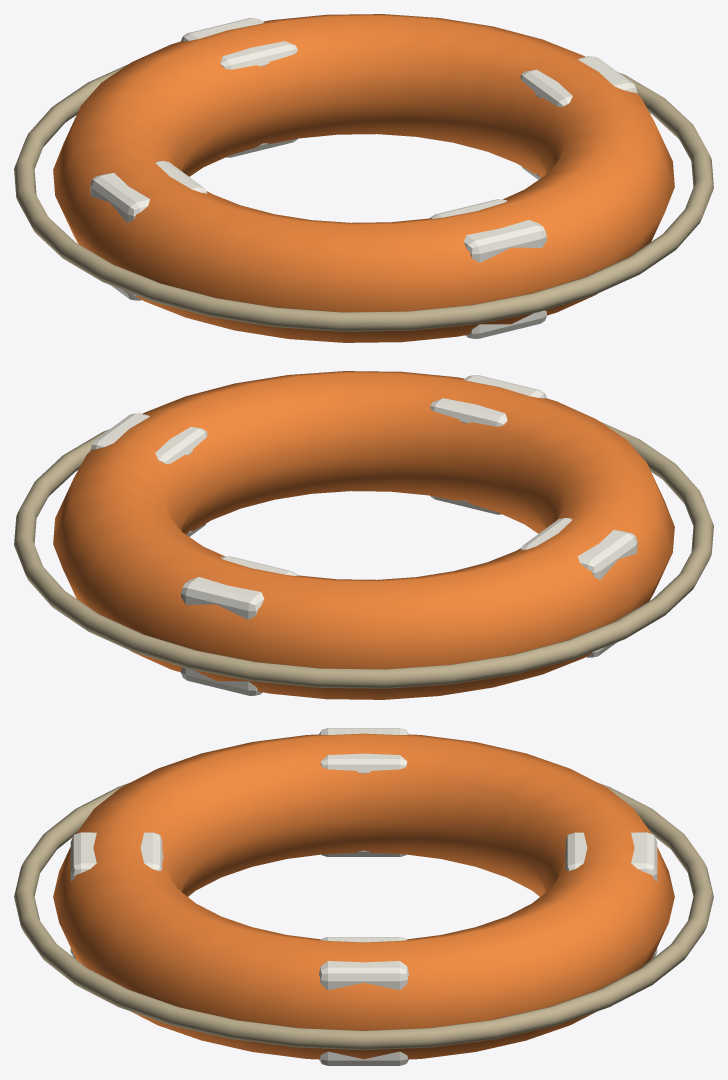
The model's file is site-lifebuoy.glb.
3 renders of one model, top to bottom at view 1: azimuth 30°, elevation 25°; view 2: azimuth 150°, elevation 25°; view 3: azimuth 270°, elevation 25°, orthographic.
Visible parts, largest first — view 1: site-lifebuoy_Safety_orange, site-lifebuoy_Braided_natural_rope, site-lifebuoy_Warm_white_precast; view 2: site-lifebuoy_Safety_orange, site-lifebuoy_Braided_natural_rope, site-lifebuoy_Warm_white_precast; view 3: site-lifebuoy_Safety_orange, site-lifebuoy_Braided_natural_rope, site-lifebuoy_Warm_white_precast.
Boxes of the visible parts, box(x1,y1,x2,y2) form: site-lifebuoy_Safety_orange: box(53, 14, 674, 342); site-lifebuoy_Braided_natural_rope: box(14, 64, 713, 331); site-lifebuoy_Warm_white_precast: box(90, 18, 637, 338); site-lifebuoy_Safety_orange: box(53, 371, 674, 699); site-lifebuoy_Braided_natural_rope: box(14, 421, 713, 688); site-lifebuoy_Warm_white_precast: box(90, 375, 637, 695); site-lifebuoy_Safety_orange: box(53, 733, 674, 1059); site-lifebuoy_Braided_natural_rope: box(14, 783, 713, 1050); site-lifebuoy_Warm_white_precast: box(70, 728, 657, 1065).
Bounding box in the file's own units: 0.68 × 0.124 × 0.68.
